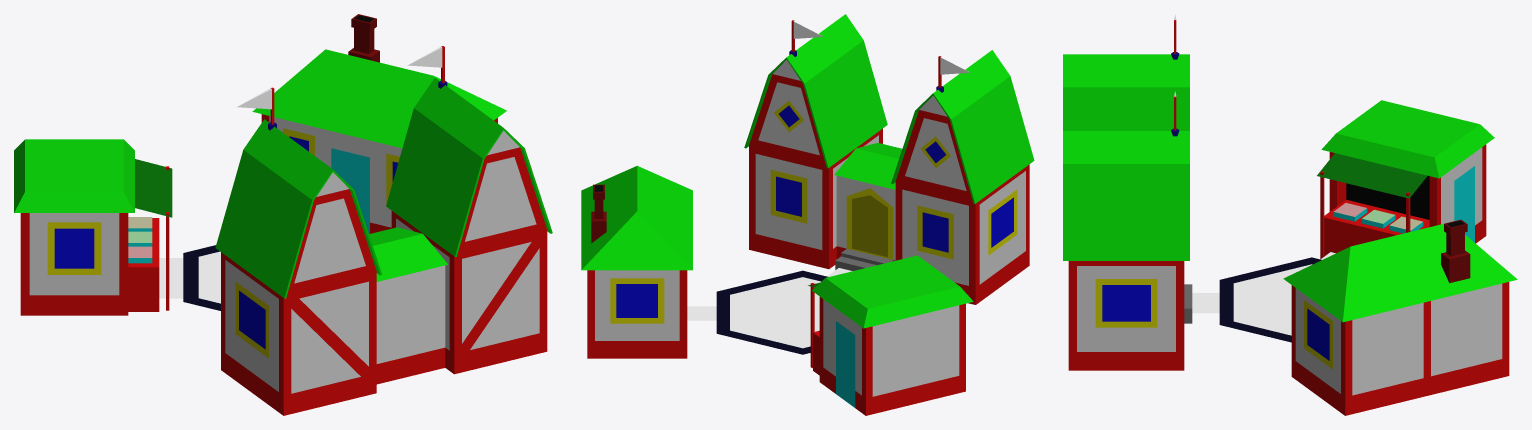
Rendered from FBX_Capital.fbx.
The picture shows the model from 3 angles, left to right: view 1: azimuth 30°, elevation 25°; view 2: azimuth 150°, elevation 25°; view 3: azimuth 270°, elevation 25°; orthographic projection. The views are drawn at different scales.
Parts seen in each view (by area): view 1: Capital; view 2: Capital; view 3: Capital.
Part boxes in pixels (x1,y1,x2,y2): Capital: (14,14,552,415); Capital: (581,14,1034,415); Capital: (1063,14,1517,415).
Bounding box in the file's own units: 612 × 338 × 552.
